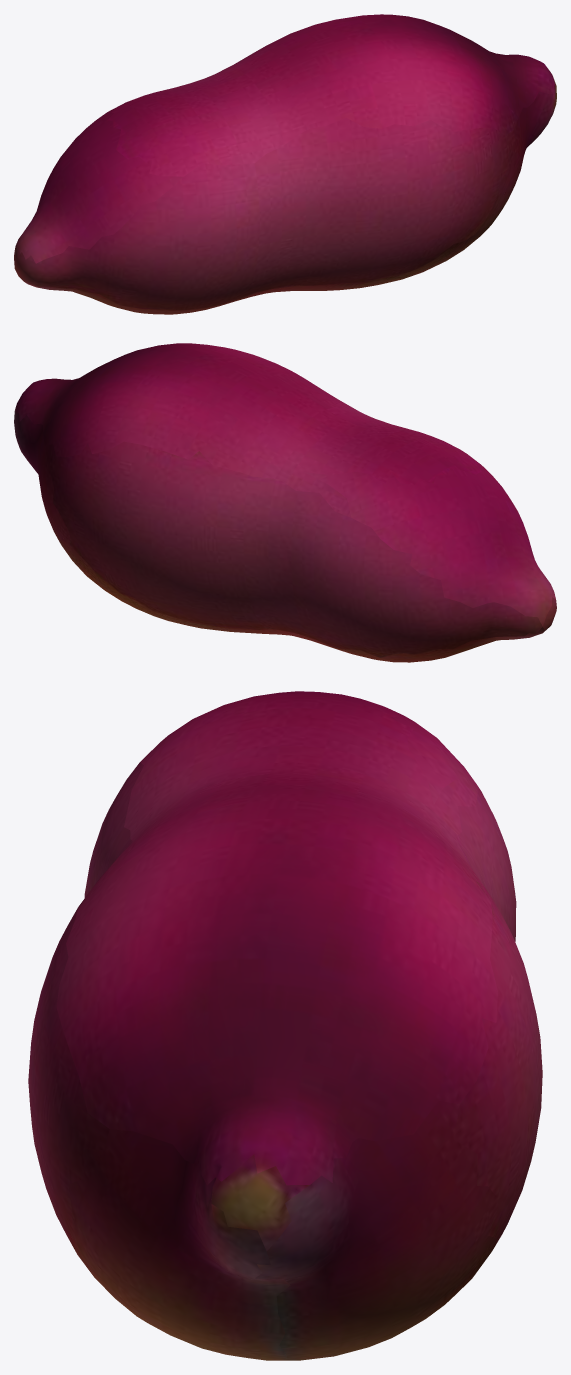
Rendered from sweetpotato.glb.
3 renders of one model, top to bottom at view 1: azimuth 30°, elevation 25°; view 2: azimuth 150°, elevation 25°; view 3: azimuth 270°, elevation 25°, orthographic. The views are drawn at different scales.
Parts seen in each view (by area): view 1: spS_s1; view 2: spS_s1; view 3: spS_s1.
Part boxes in pixels (x1=…): spS_s1: x1=14, y1=14, x2=556, y2=314; spS_s1: x1=14, y1=343, x2=556, y2=662; spS_s1: x1=28, y1=691, x2=542, y2=1360.
Size of the model in its own units: 1 by 0.4426 by 0.4251.
1 material, 1 textured.
